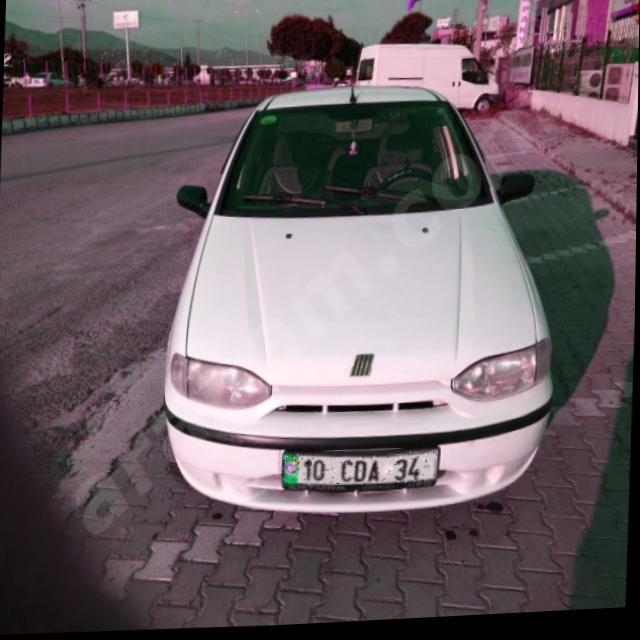license_plate: (283, 450, 439, 493)
